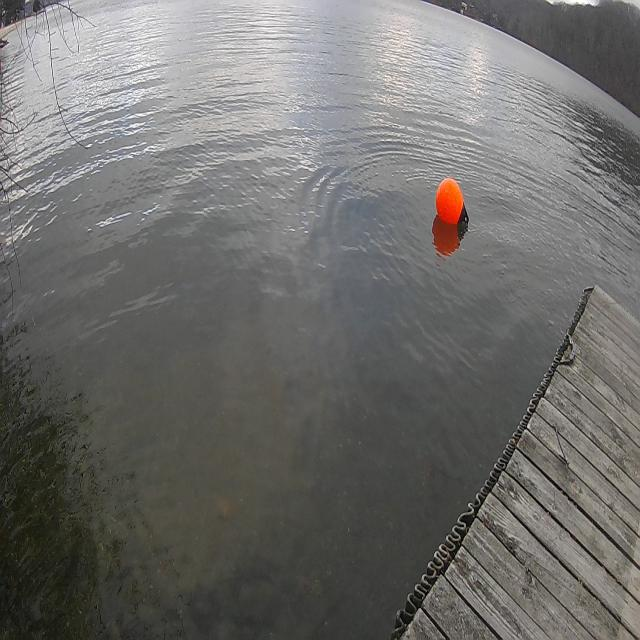Buoy: (434, 166, 471, 246)
